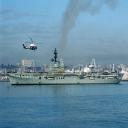Portanaves: (7, 50, 127, 89)
